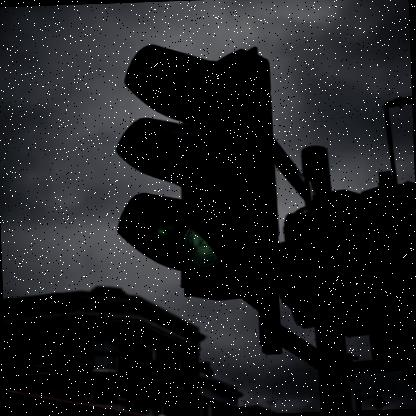trafficlight: (108, 37, 286, 300)
